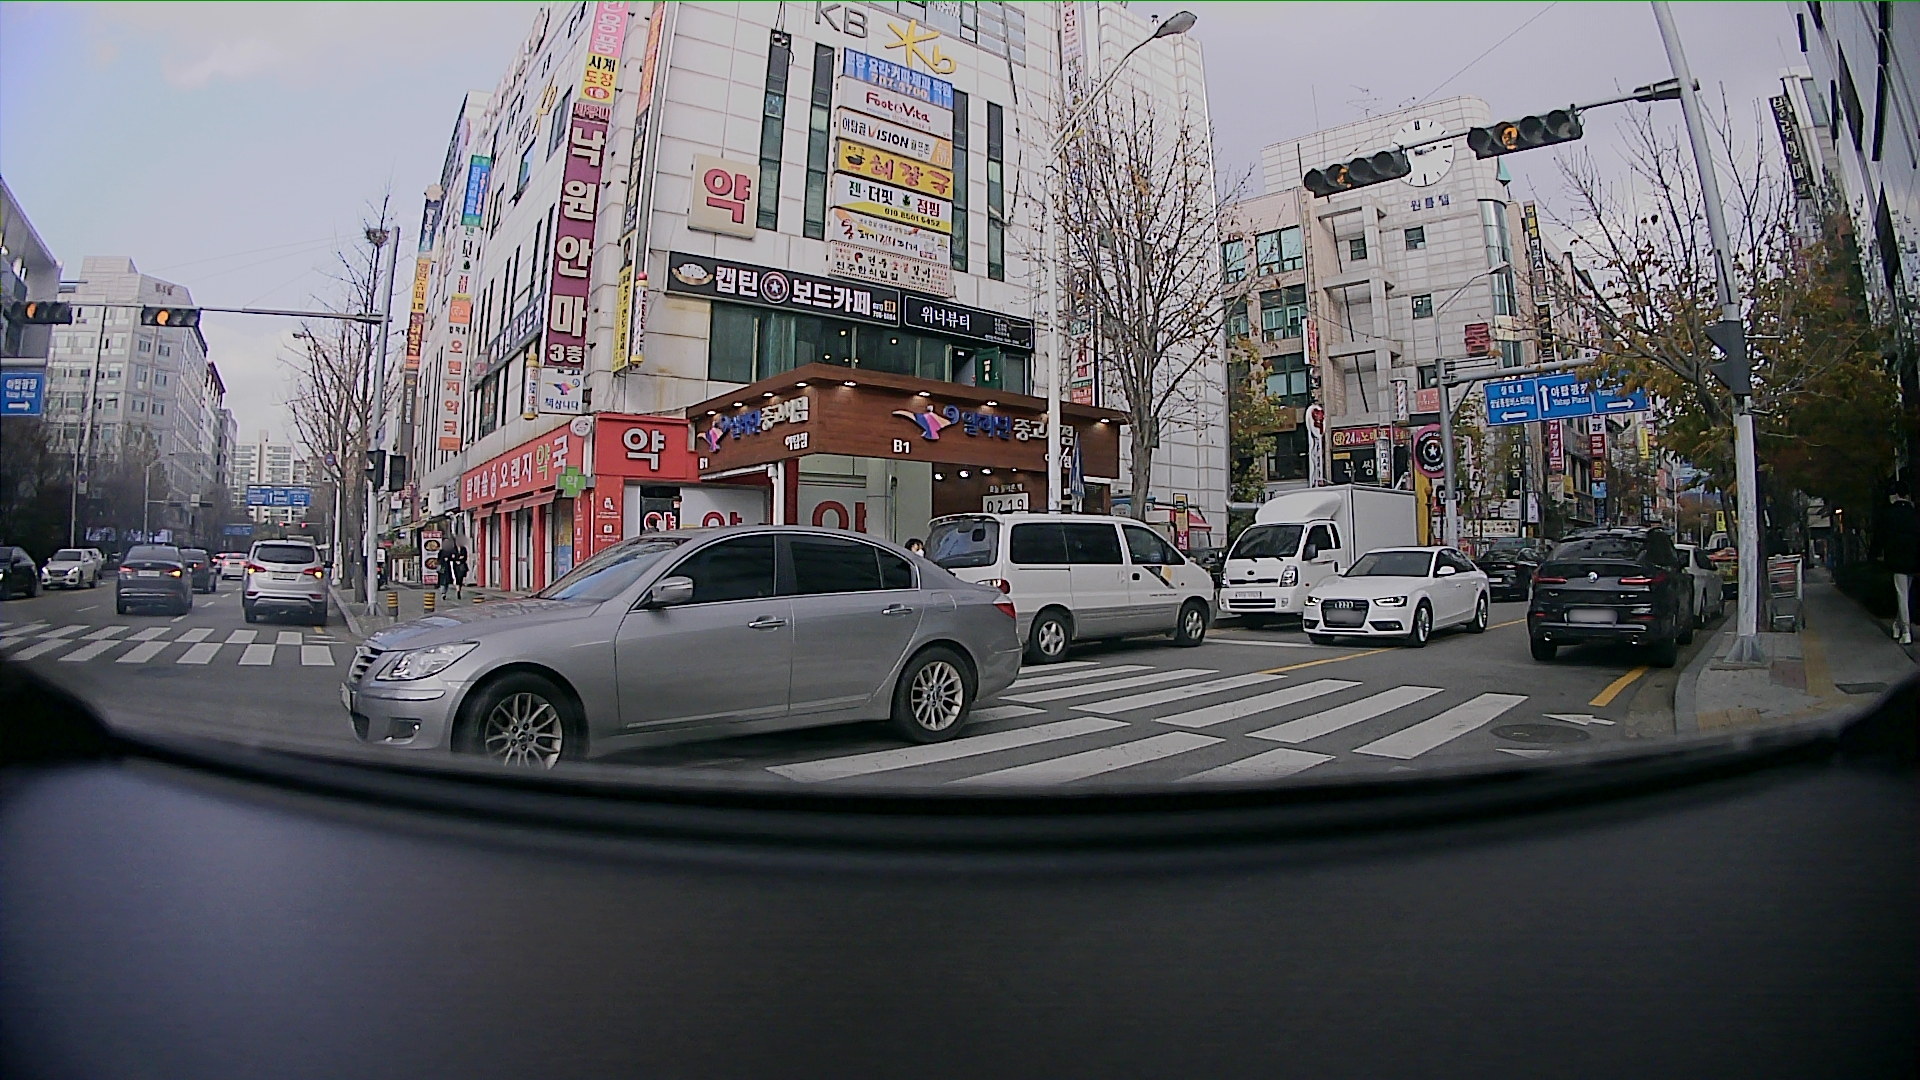trafficLight: (1465, 102, 1582, 166), (1305, 142, 1408, 200), (136, 305, 204, 334), (18, 303, 78, 324)
